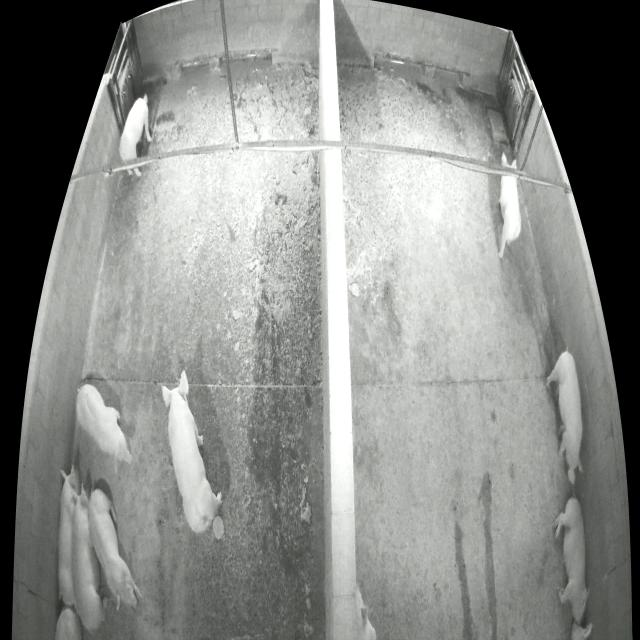pig: (163, 368, 222, 532), (89, 488, 142, 611), (545, 346, 584, 485), (71, 484, 107, 631), (74, 384, 131, 474), (555, 496, 588, 623), (58, 463, 80, 606), (119, 93, 152, 176), (498, 153, 521, 258), (356, 583, 376, 638), (56, 606, 82, 639)
